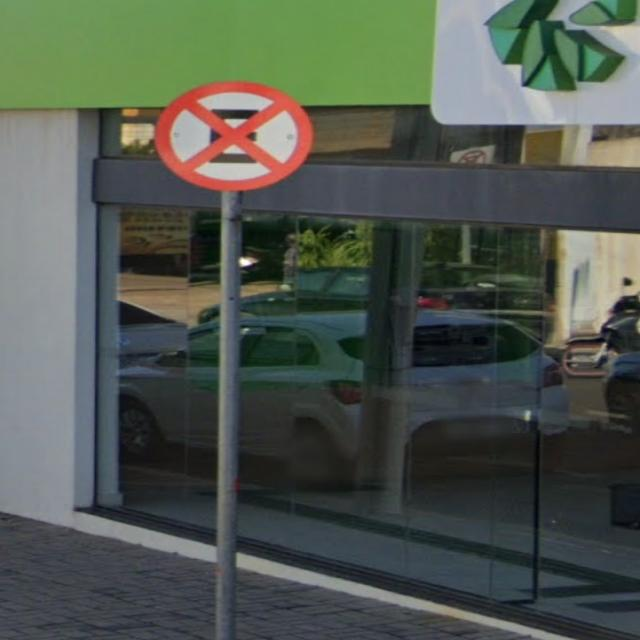no parking: (139, 70, 327, 204)
